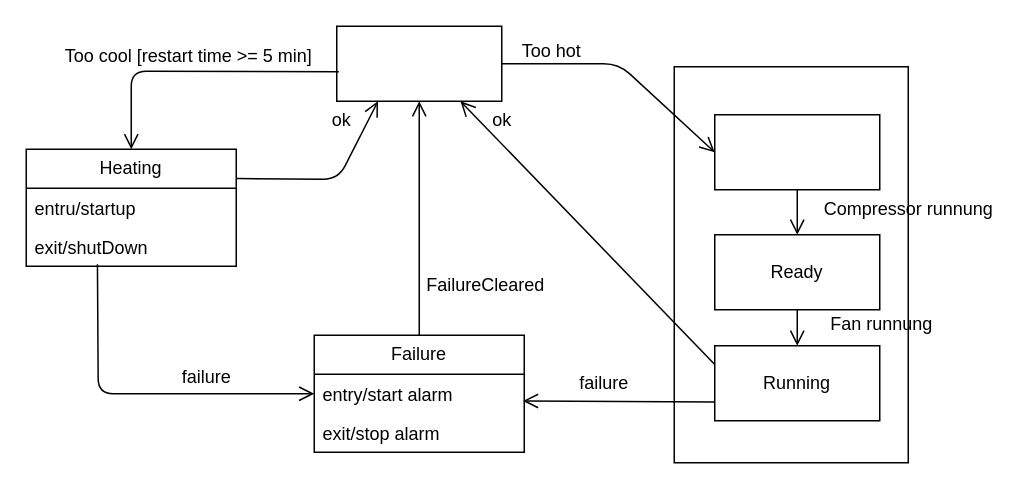
Some shapes in this 1032 by 489 pixel diagram are drawn without their labels. The shapes that lost their labels are listed below. From the top down, each one's centre as x and y in pixels, then its label:
At point 418,63: "Idle".
At point 796,151: "Startup".
